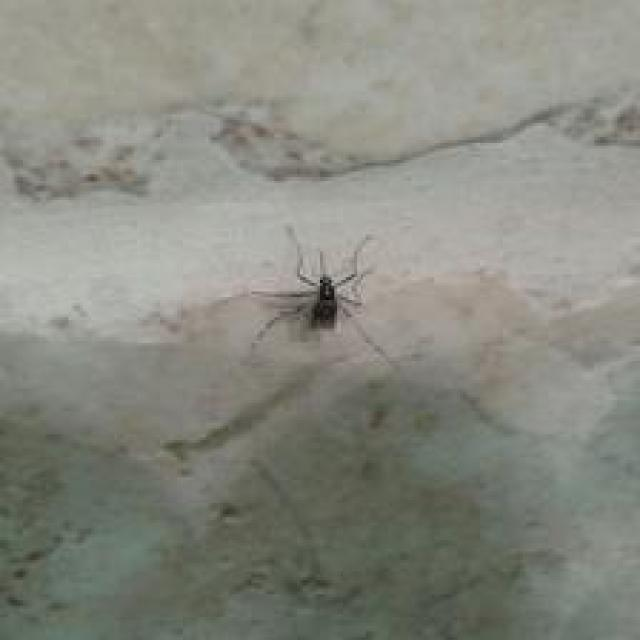Aedes albopictus: (246, 224, 400, 370)
